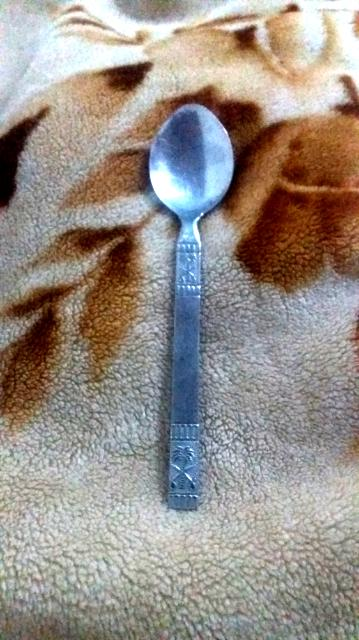Spoon: (150, 105, 233, 509)
